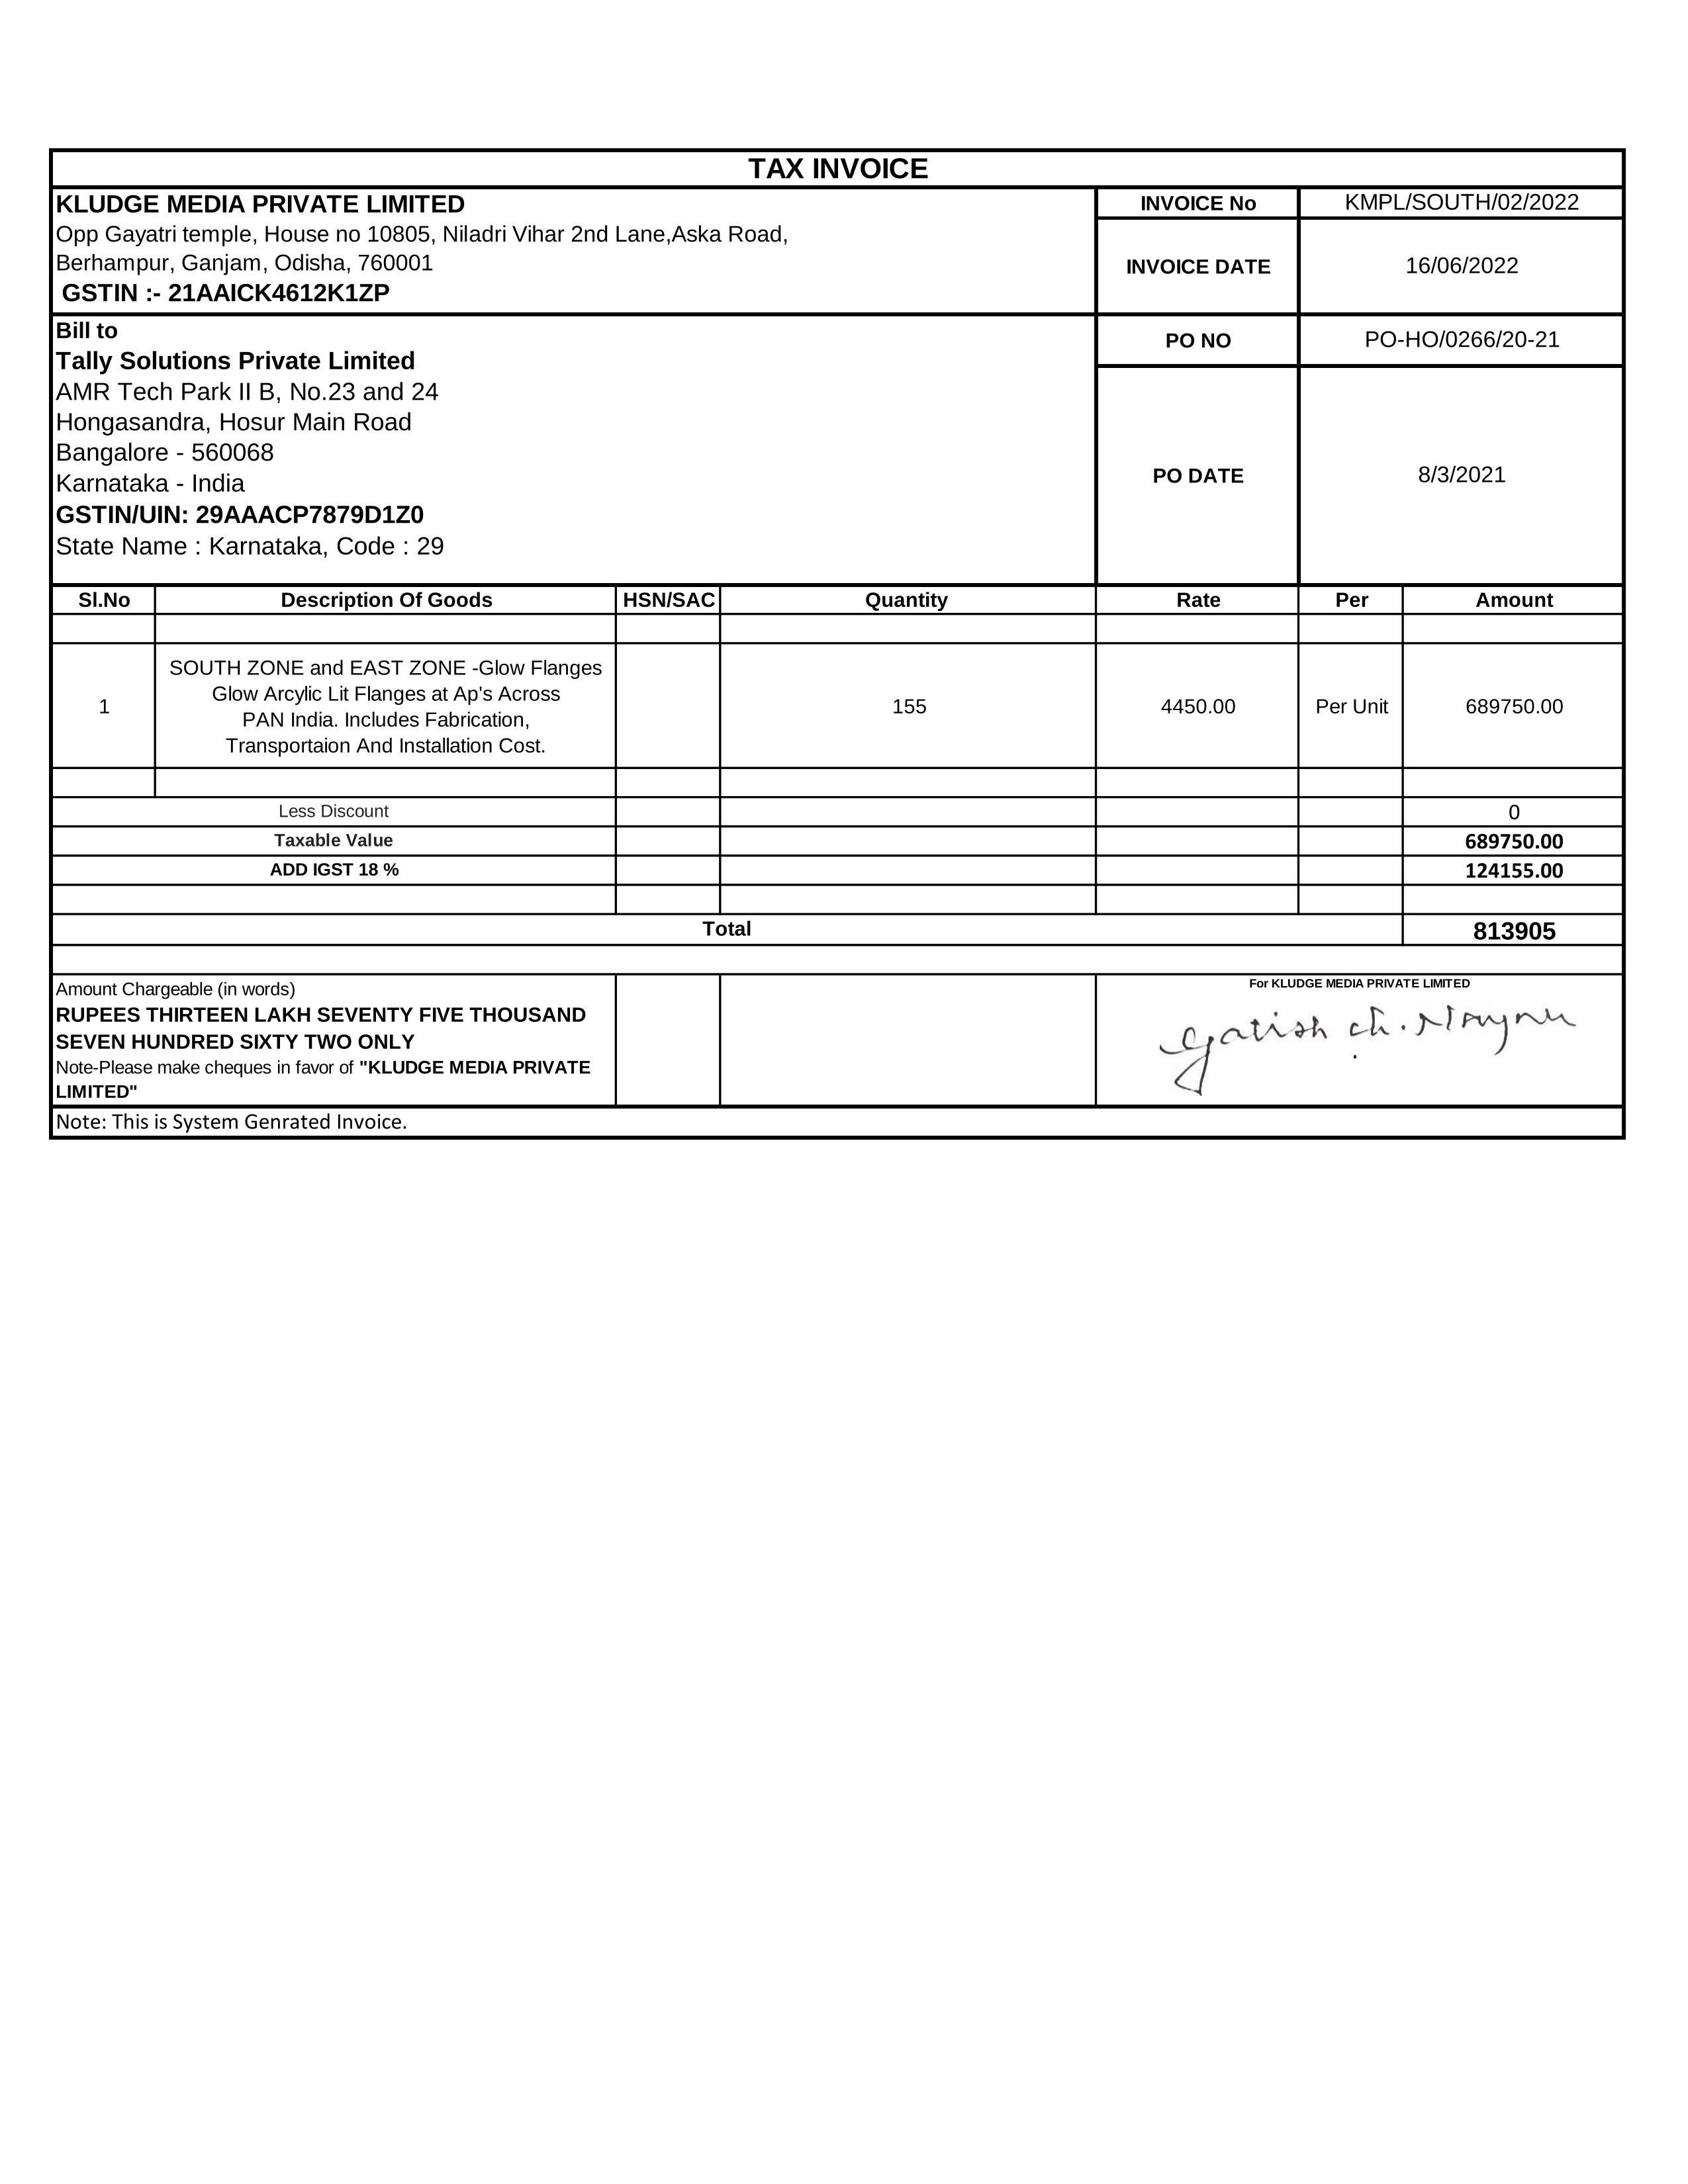InvoiceDate: (1403, 252, 1528, 285)
InvoiceNumber: (1340, 188, 1583, 216)
TotalAmount: (1463, 911, 1566, 943)
